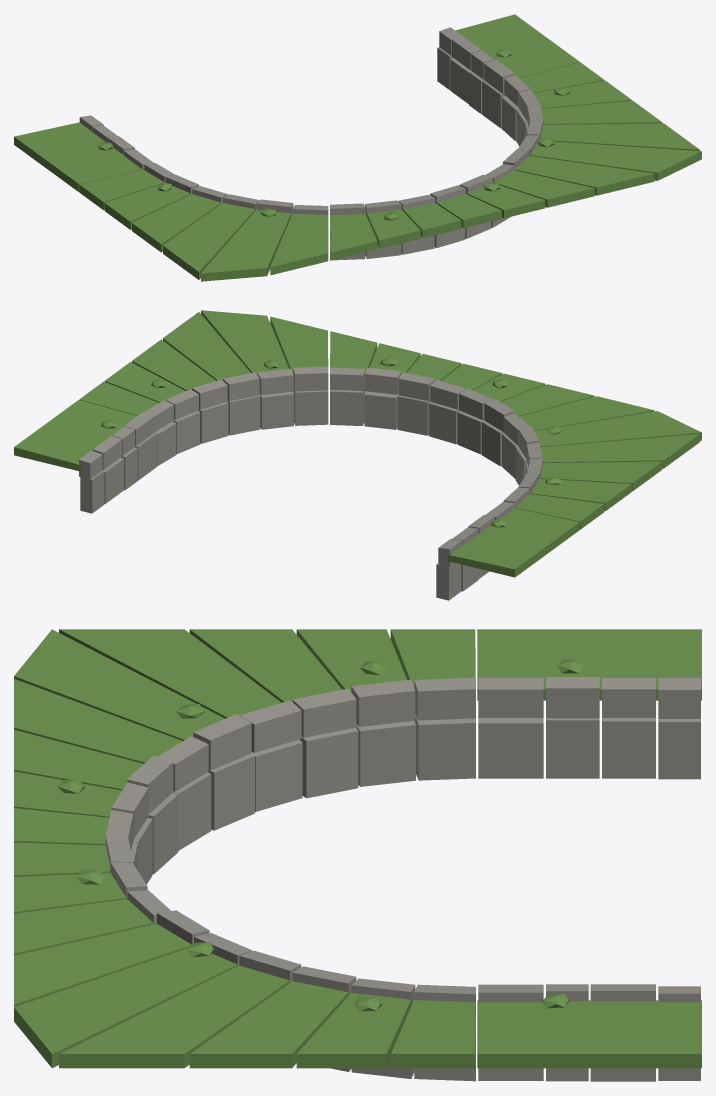
File: pond_rim.fbx
3 views of the same model, one above another, from view 1: azimuth 30°, elevation 25°; view 2: azimuth 150°, elevation 25°; view 3: azimuth 270°, elevation 25° (orthographic). The views are drawn at different scales.
Visible parts, largest first — view 1: P_Edge_Moss, P_Edge_Stone; view 2: P_Edge_Moss, P_Edge_Stone; view 3: P_Edge_Moss, P_Edge_Stone.
Boxes of the visible parts, x1,y1,x2,y2 form: P_Edge_Moss: (14,14,701,281); P_Edge_Stone: (79,27,543,260); P_Edge_Moss: (14,310,701,577); P_Edge_Stone: (79,366,543,600); P_Edge_Moss: (14,629,701,1068); P_Edge_Stone: (105,677,700,1081).
Size of the model in its own units: 35.8 by 3.81 by 24.5.
